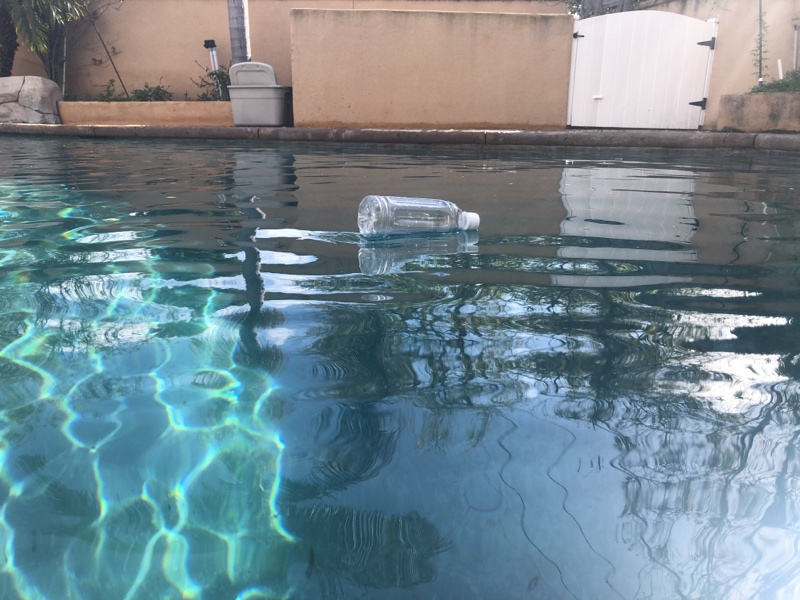Plastic Bottle: (353, 191, 482, 243)
